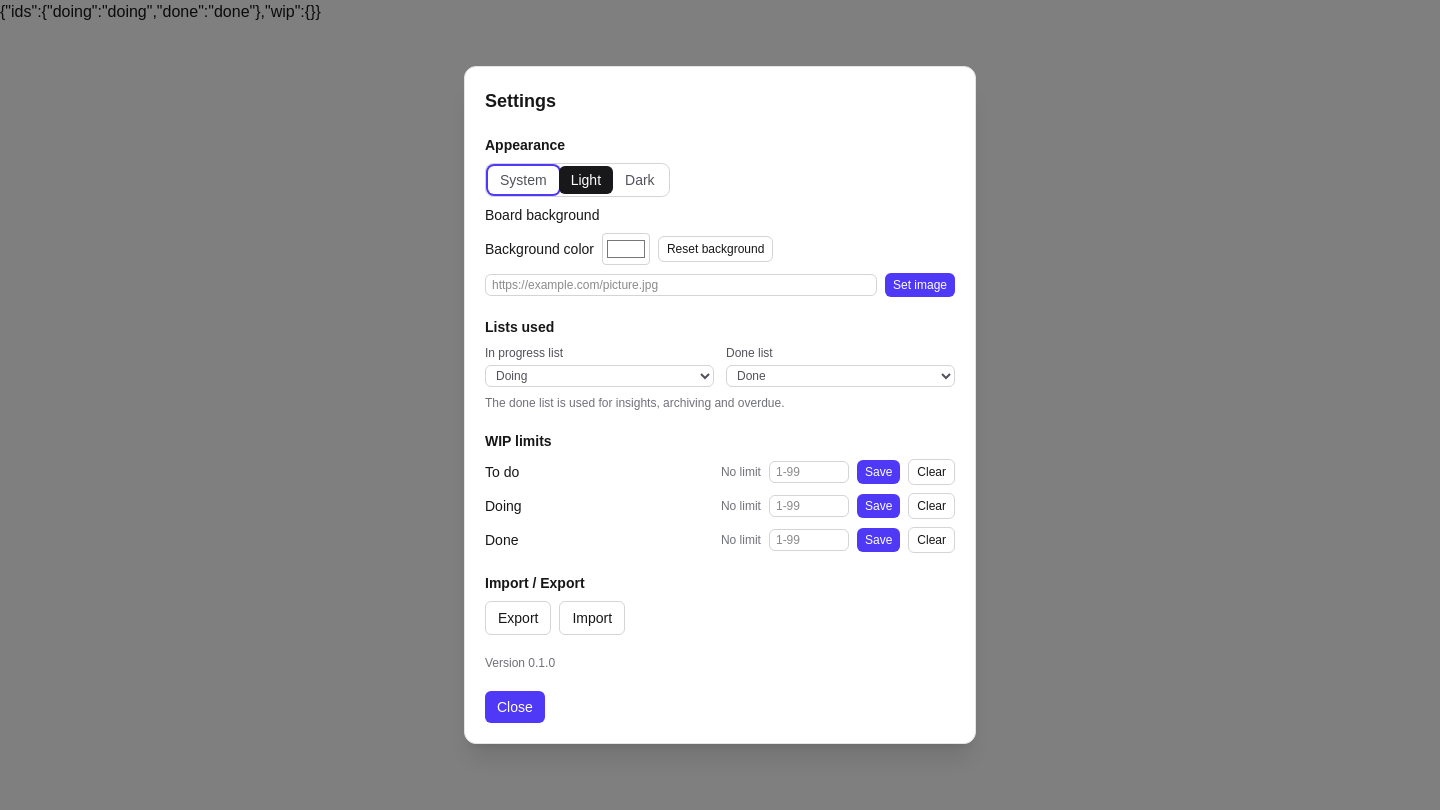
Test case: <SettingsPanel /> › rejects the WIP limit 0
Type "0" into the field named "WIP limit for Doing" at coordinates (809, 506), box [769,495,849,517]
Then press Enter
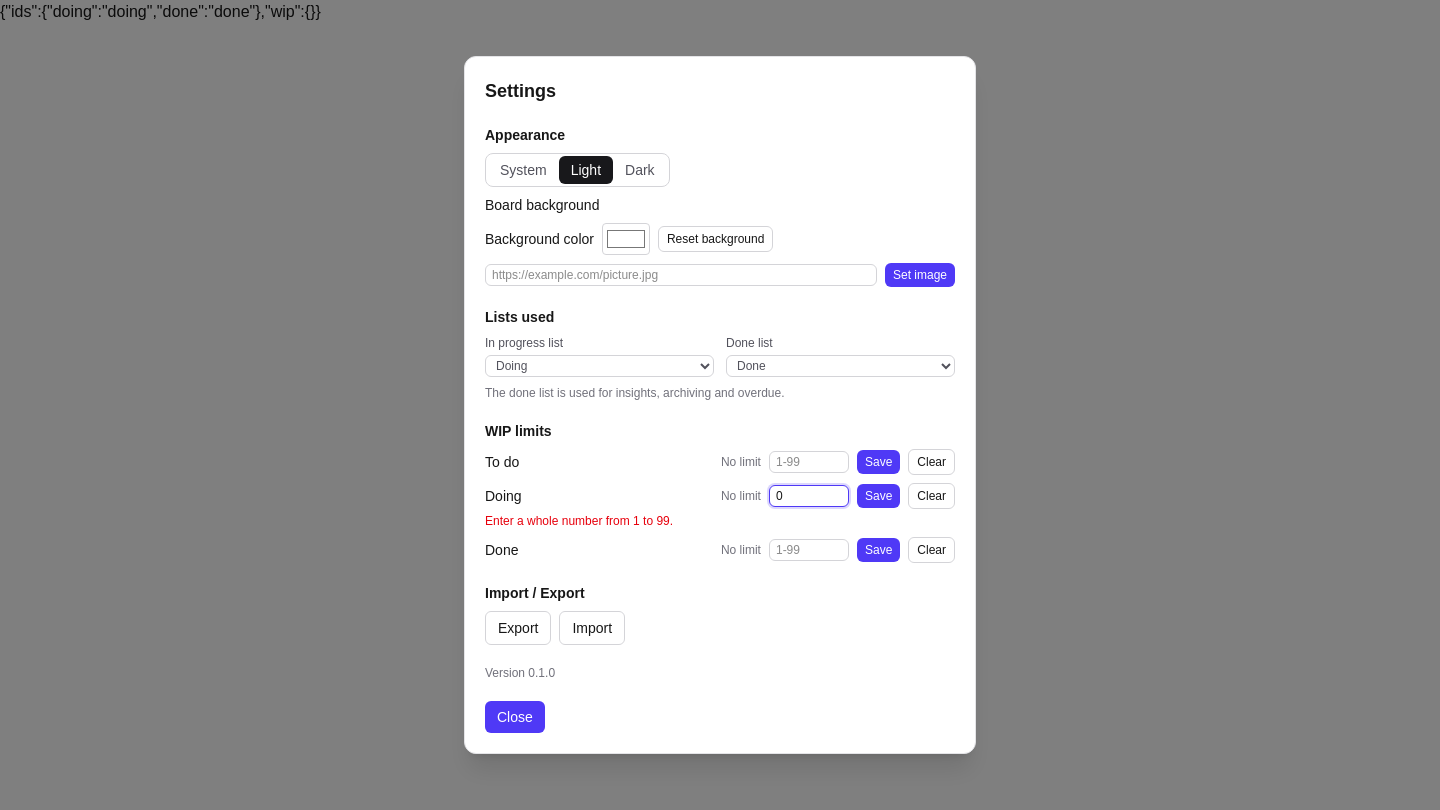
Expected: the message "Enter a whole number from 1 to 99." is shown, [485,514,673,528]
